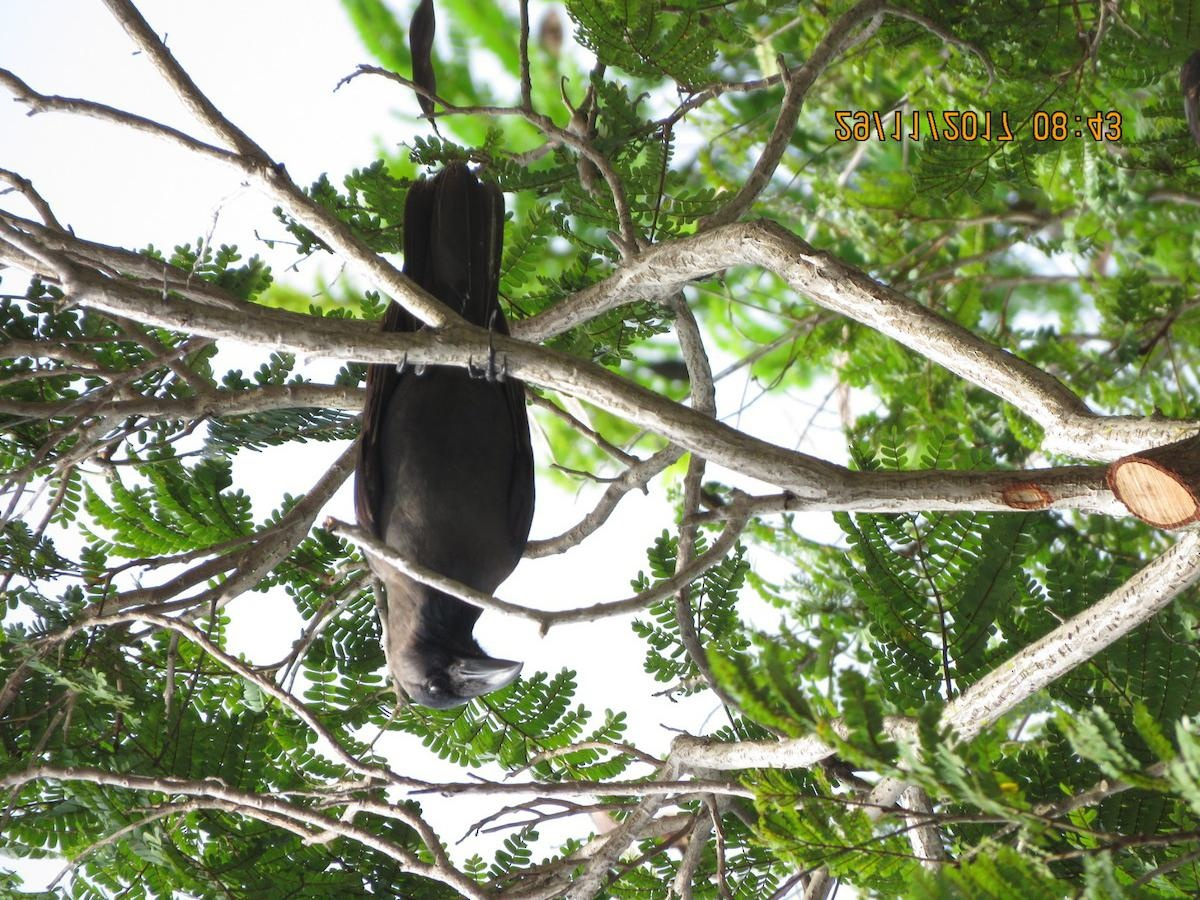crow: (369, 159, 552, 741)
